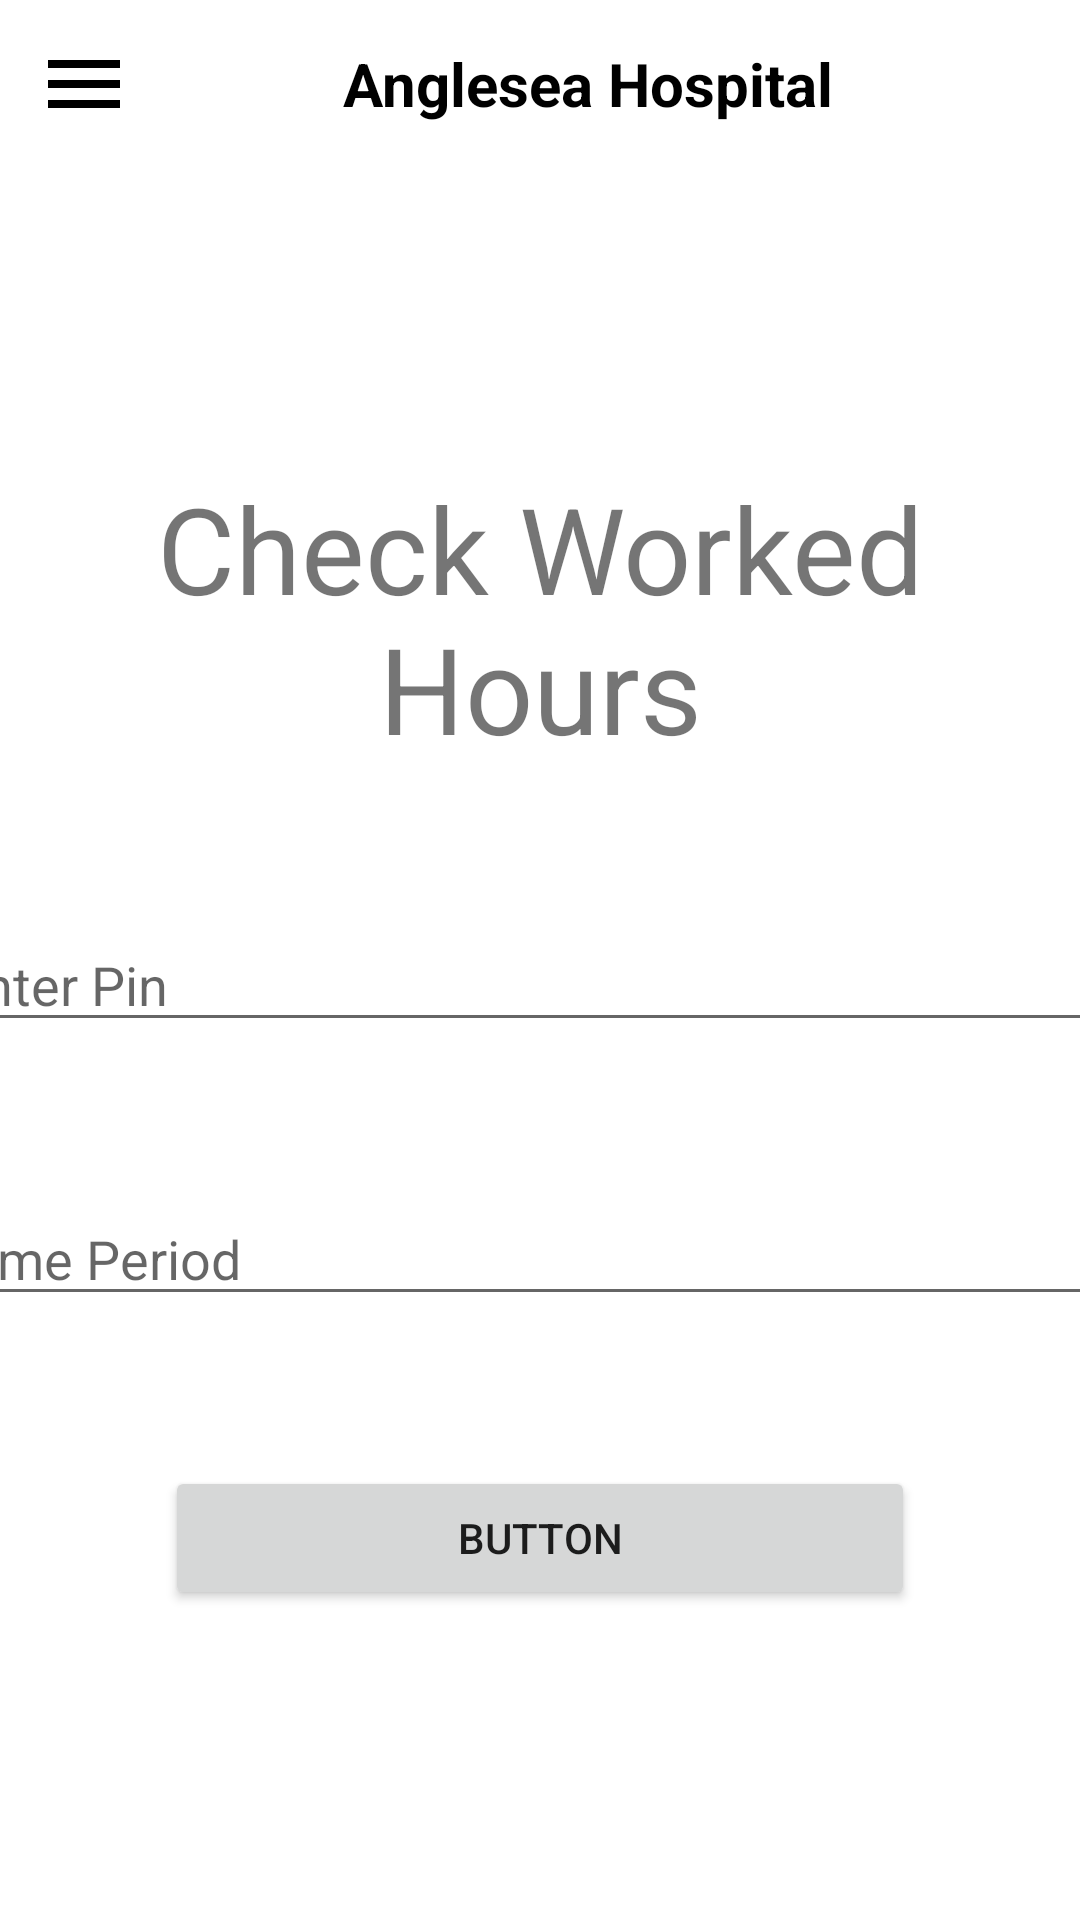

Named icons in this screenshot (1080px x 1920px) and their bounding boxes, rect(x1, y1, x2, y2):
menu: rect(48, 60, 120, 108)
